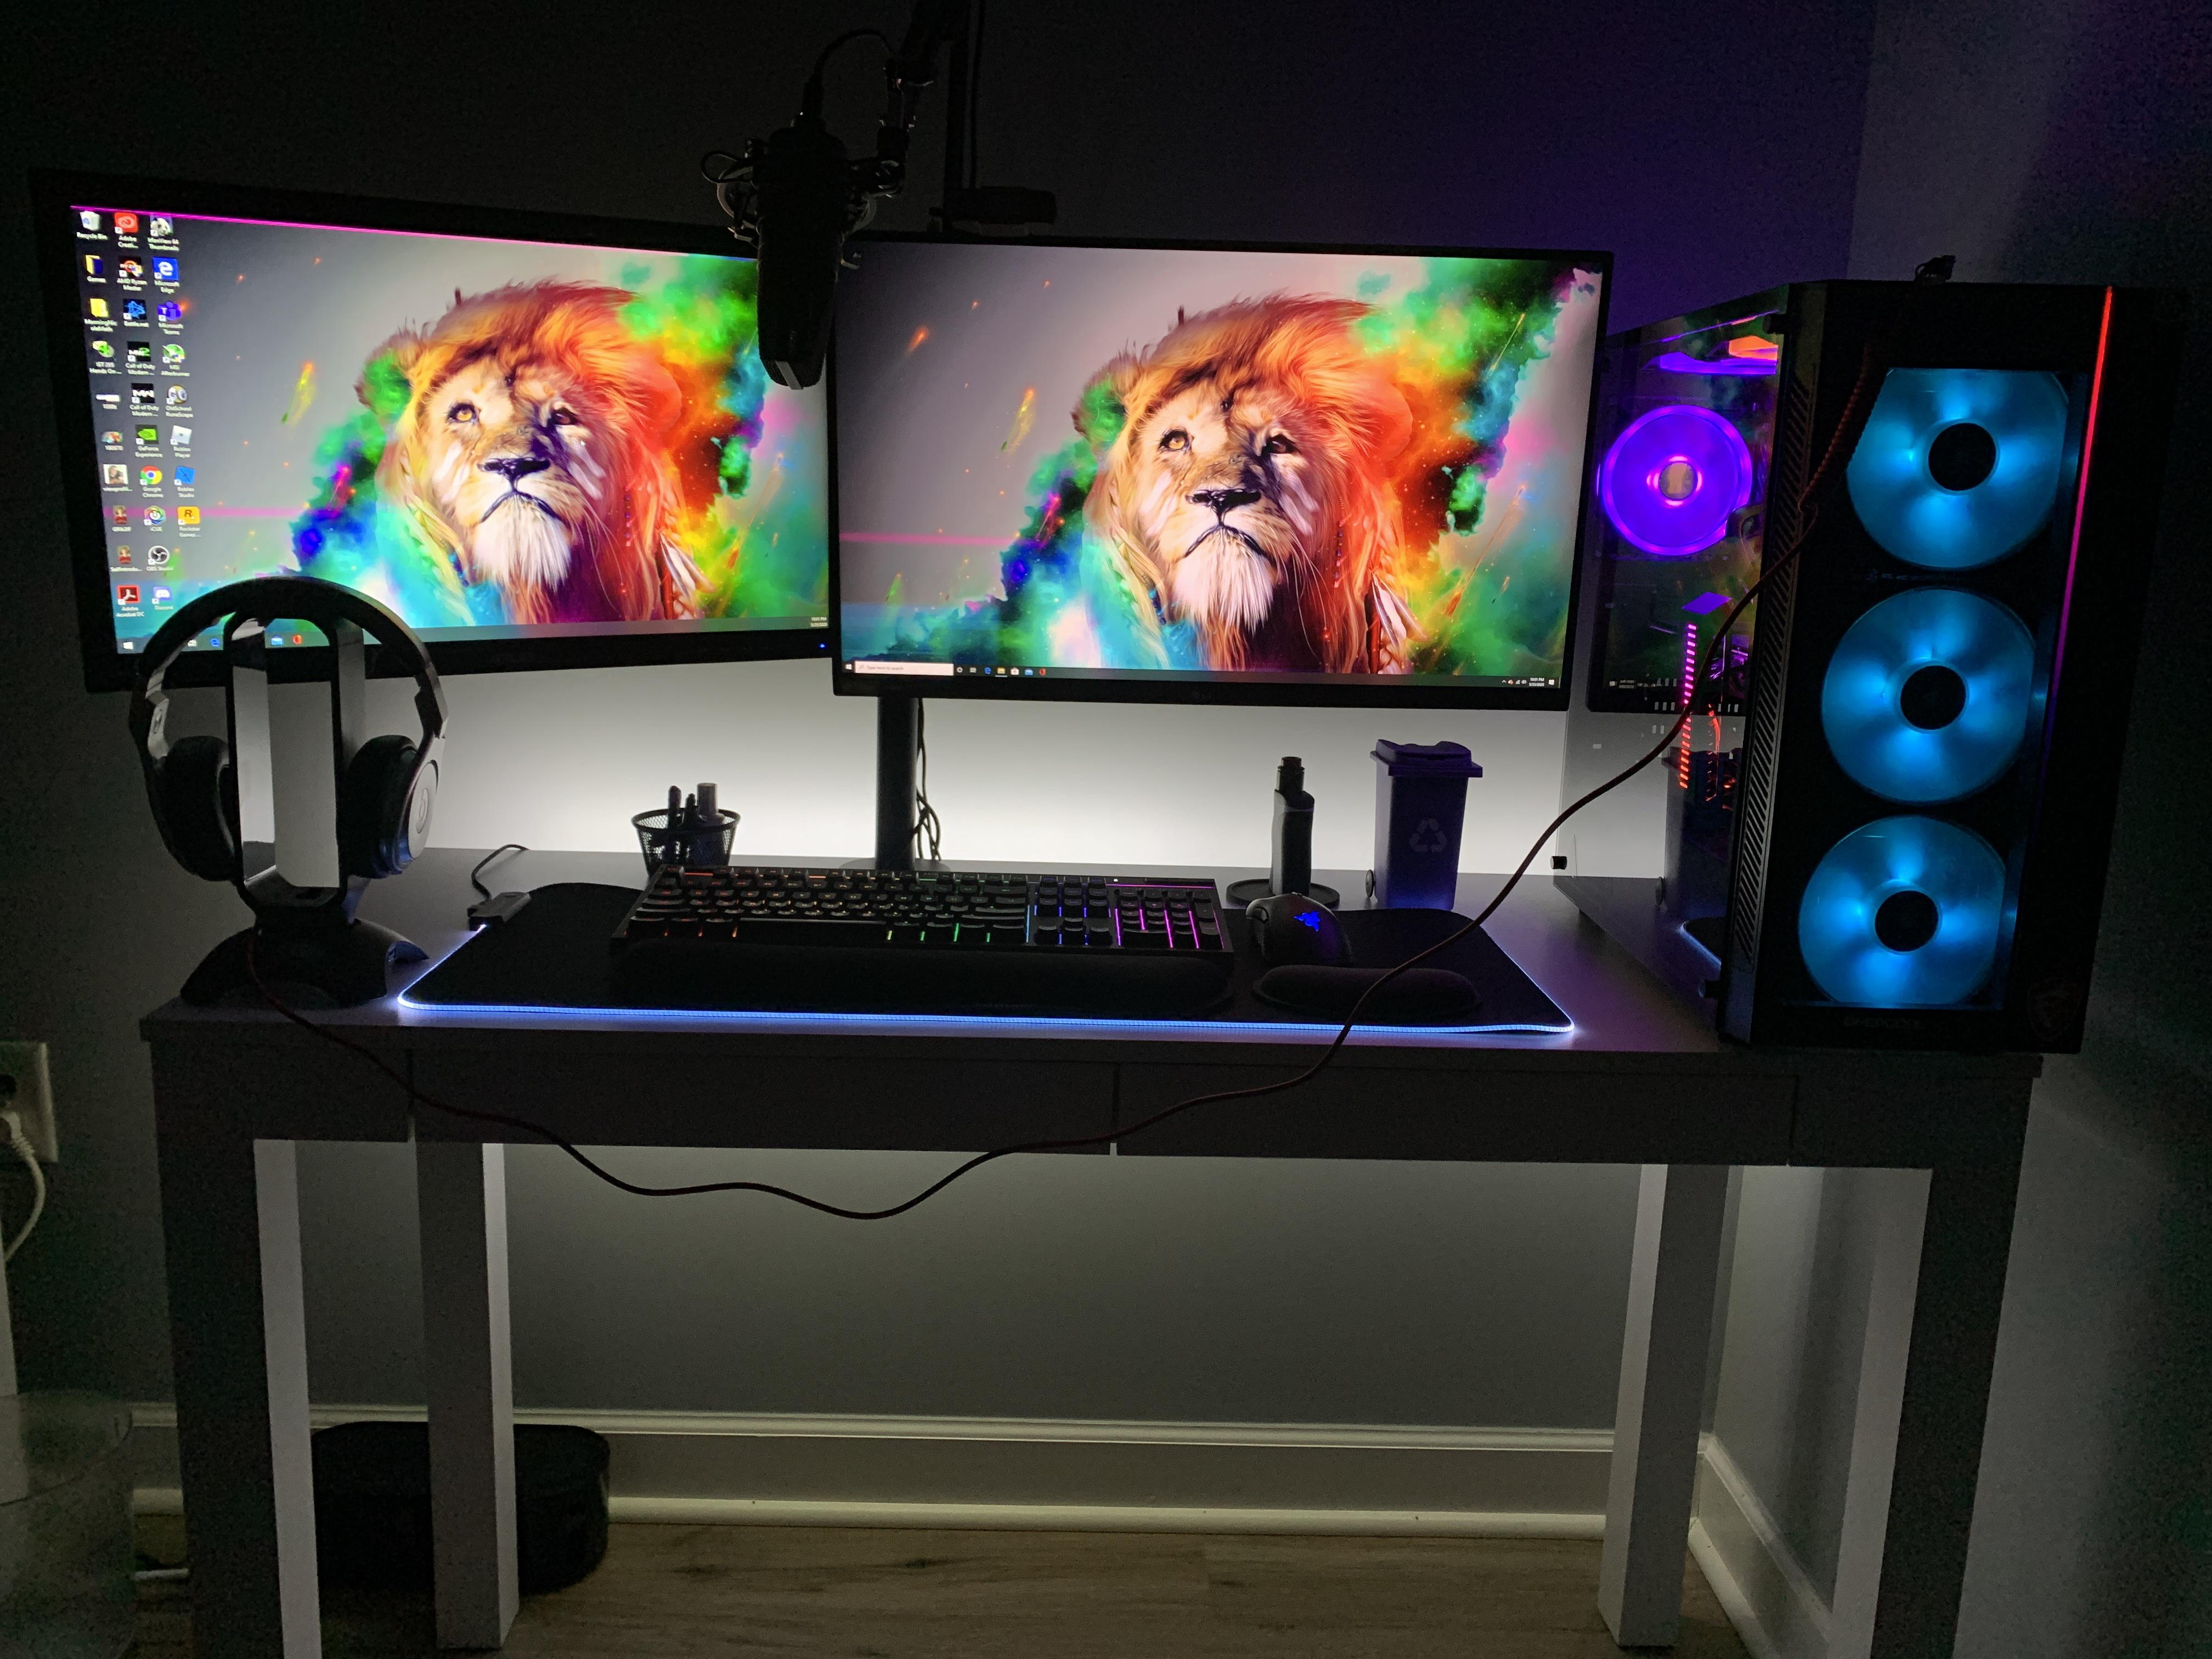Desk (Generic): (155, 816, 2064, 1659)
Desktop (Windows): (1545, 263, 2155, 1060)
External Microphone (with Boom Arm): (698, 0, 1042, 399)
Headphones: (110, 570, 460, 894)
Keyboard (Gaming): (615, 843, 1240, 972)
Monitor (Landscape): (37, 178, 836, 671), (812, 244, 1615, 706)
Mouse (Gaming): (1240, 884, 1352, 953)
Mousepad (Gaming): (413, 878, 1571, 1040)
Trash Can: (1360, 723, 1484, 929)
